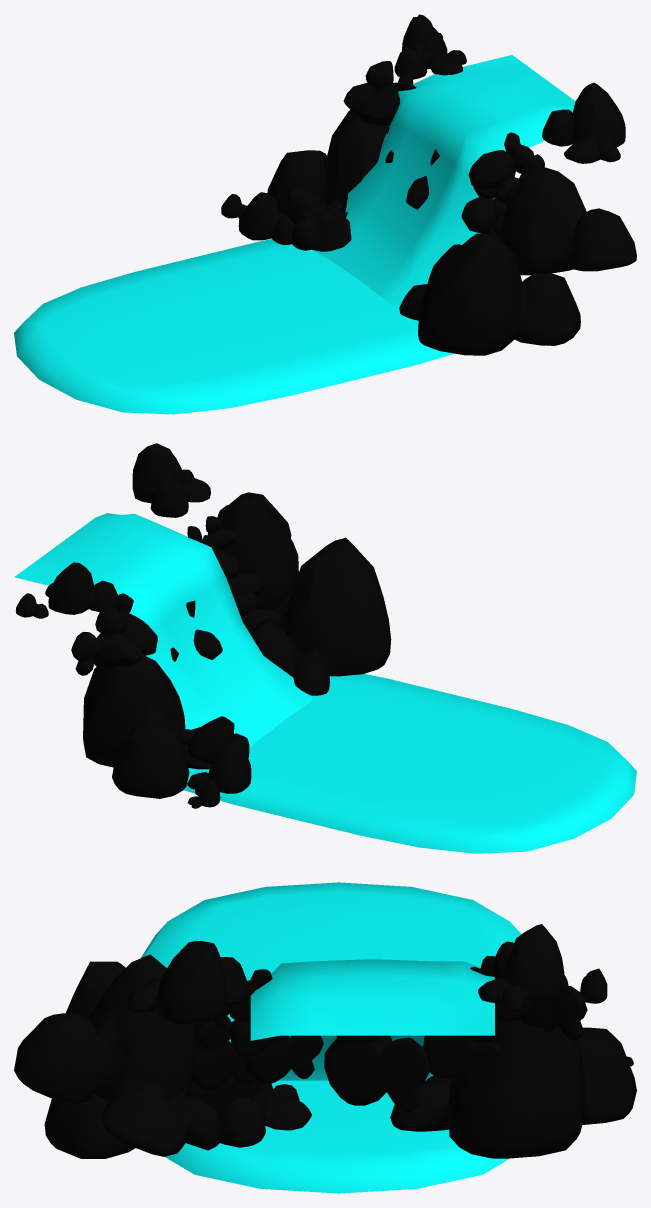
The model's file is Waterfall.fbx.
3 renders of one model, top to bottom at view 1: azimuth 30°, elevation 25°; view 2: azimuth 150°, elevation 25°; view 3: azimuth 270°, elevation 25°, orthographic. The views are drawn at different scales.
Parts seen in each view (by area): view 1: Water_fall_LOD0; view 2: Water_fall_LOD0; view 3: Water_fall_LOD0.
Part boxes in pixels (x1=…): Water_fall_LOD0: x1=14, y1=14, x2=636, y2=414; Water_fall_LOD0: x1=14, y1=443, x2=636, y2=853; Water_fall_LOD0: x1=14, y1=882, x2=636, y2=1193.
Bounding box in the file's own units: 83.23 × 31.35 × 63.73.
